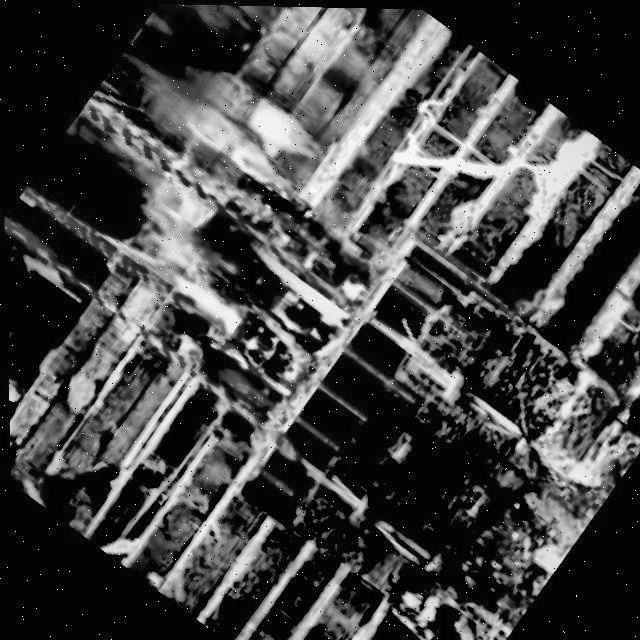Fire: (102, 195, 271, 347), (235, 219, 370, 338)
